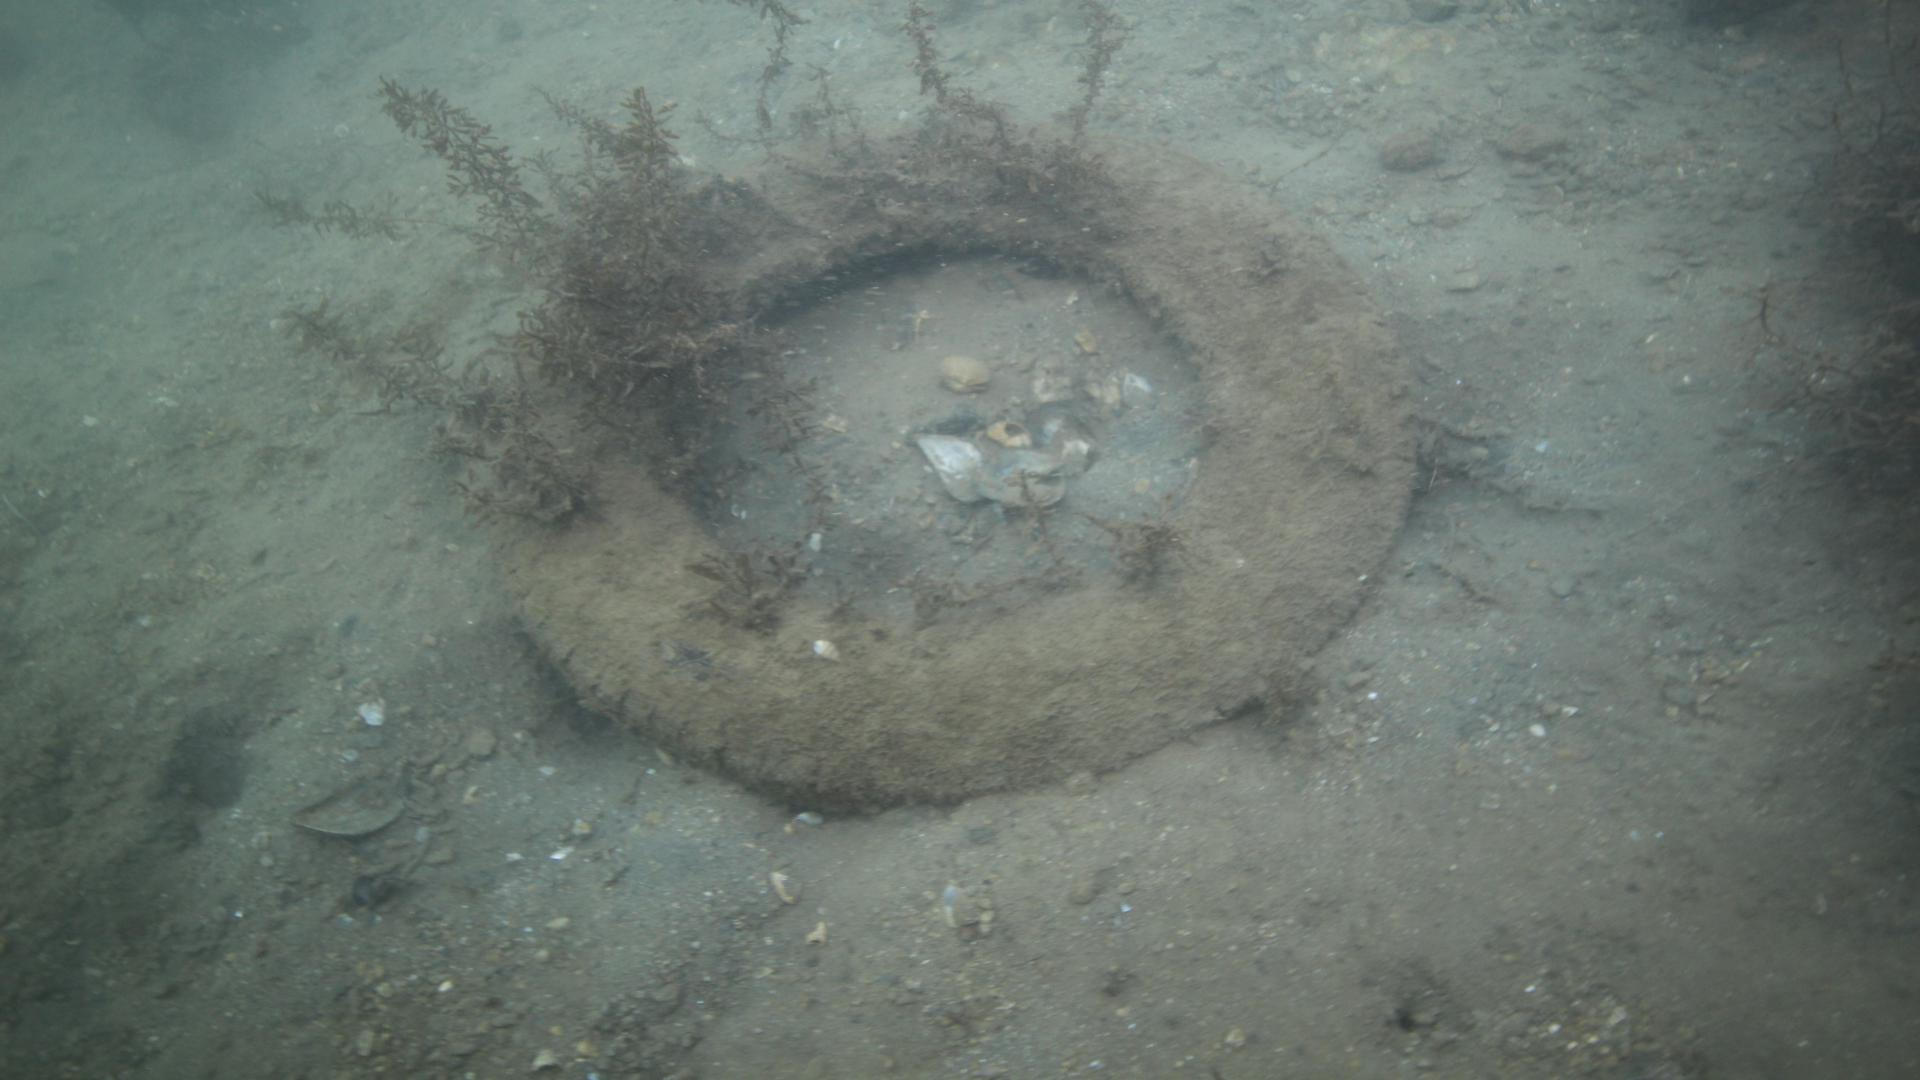tire: (480, 117, 1418, 820)
